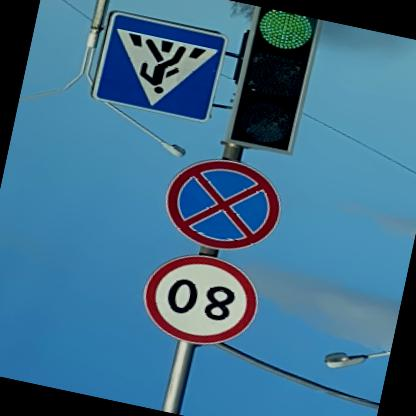crosswalk: (89, 10, 230, 126)
speedlimit: (138, 246, 267, 356)
trafficlight: (223, 5, 326, 158)
